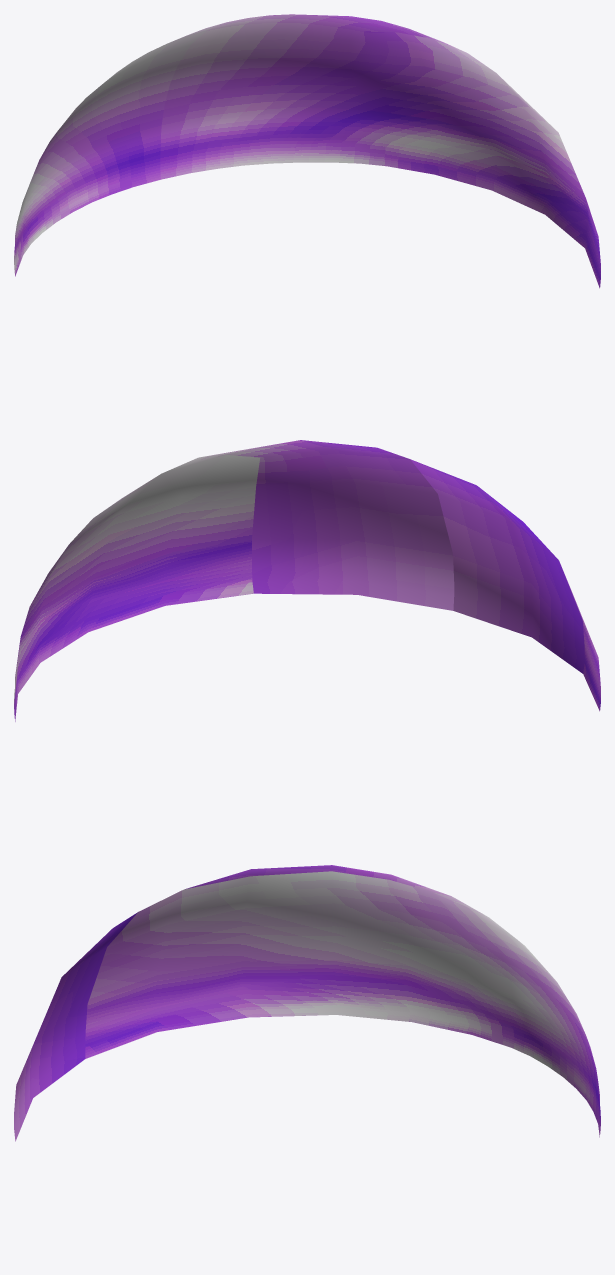
File: cloudSummer_vr.glb
3 renders of one model, top to bottom at view 1: azimuth 30°, elevation 25°; view 2: azimuth 150°, elevation 25°; view 3: azimuth 270°, elevation 25°, orthographic.
Visible parts, largest first — view 1: cloud_vr__ParkVR_m; view 2: cloud_vr__ParkVR_m; view 3: cloud_vr__ParkVR_m.
Part boxes in pixels (left/top/right/bottom): cloud_vr__ParkVR_m: left=14, top=14, right=600, bottom=288; cloud_vr__ParkVR_m: left=14, top=440, right=600, bottom=721; cloud_vr__ParkVR_m: left=14, top=865, right=600, bottom=1141.
Bounding box in the file's own units: 1046 × 482 × 1051.
1 material, 1 textured.
